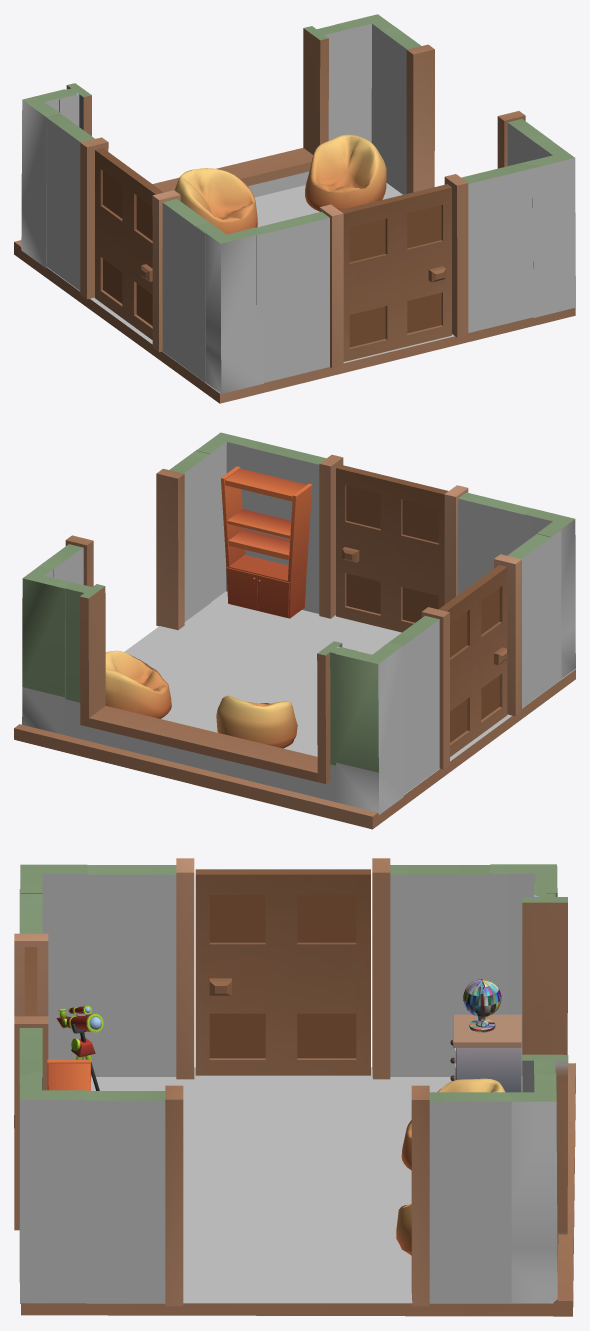
Rendered from LIBRERIA completa color VERDE.fbx.
3 views of the same model, one above another, from view 1: azimuth 30°, elevation 25°; view 2: azimuth 150°, elevation 25°; view 3: azimuth 270°, elevation 25° (orthographic). The views are drawn at different scales.
Parts seen in each view (by area): view 1: paret_puerta13, paret_puerta14, puerta8, puerta9, paret_con_ventana_grande6, paret_esquina_31, paret_con_borde, paret_esquina_30, suelo, puf2, paret_esquina_27, paret_esquina_29 (+3 smaller); view 2: suelo, paret_con_ventana_grande6, paret_puerta14, puerta8, paret_puerta13, paret_esquina_27, mueble_estanteria, puerta9, paret_con_borde4, paret_esquina_29, fombra1, puf2 (+4 smaller); view 3: suelo, paret_puerta14, puerta9, paret_con_borde, paret_con_borde4, paret_esquina_30, fombra1, paret_con_ventana_grande6, paret_esquina_29, paret_esquina_31, paret_puerta13, mueble (+6 smaller).
Part boxes in pixels (x1,y1,x2,y2): paret_puerta13: [256, 160, 541, 382]; paret_puerta14: [47, 109, 209, 382]; puerta8: [339, 184, 451, 361]; puerta9: [95, 148, 163, 339]; paret_con_ventana_grande6: [59, 24, 344, 197]; paret_esquina_31: [196, 222, 263, 393]; paret_con_borde: [380, 26, 434, 194]; paret_esquina_30: [525, 140, 575, 317]; suelo: [14, 183, 575, 403]; puf2: [305, 134, 386, 211]; paret_esquina_27: [21, 89, 72, 268]; paret_esquina_29: [337, 14, 393, 153]; suelo: [14, 591, 575, 829]; paret_con_ventana_grande6: [64, 582, 357, 801]; paret_puerta14: [383, 530, 561, 794]; puerta8: [336, 464, 448, 632]; paret_puerta13: [246, 441, 532, 618]; paret_esquina_27: [335, 643, 403, 814]; mueble_estanteria: [221, 466, 312, 618]; puerta9: [438, 565, 507, 756]; paret_con_borde4: [156, 450, 211, 629]; paret_esquina_29: [22, 566, 71, 735]; fombra1: [148, 658, 317, 749]; puf2: [105, 650, 171, 718]; suelo: [21, 1063, 575, 1316]; paret_puerta14: [86, 858, 507, 1079]; puerta9: [195, 869, 370, 1075]; paret_con_borde: [411, 1085, 511, 1306]; paret_con_borde4: [83, 1085, 183, 1306]; paret_esquina_30: [19, 1071, 86, 1303]; fombra1: [295, 1140, 411, 1266]; paret_con_ventana_grande6: [522, 884, 568, 1234]; paret_esquina_29: [503, 1073, 557, 1302]; paret_esquina_31: [20, 864, 87, 1059]; paret_puerta13: [14, 889, 48, 1230]; mueble: [450, 979, 521, 1092].
Bounding box in the file's own units: 841 × 360 × 832.
